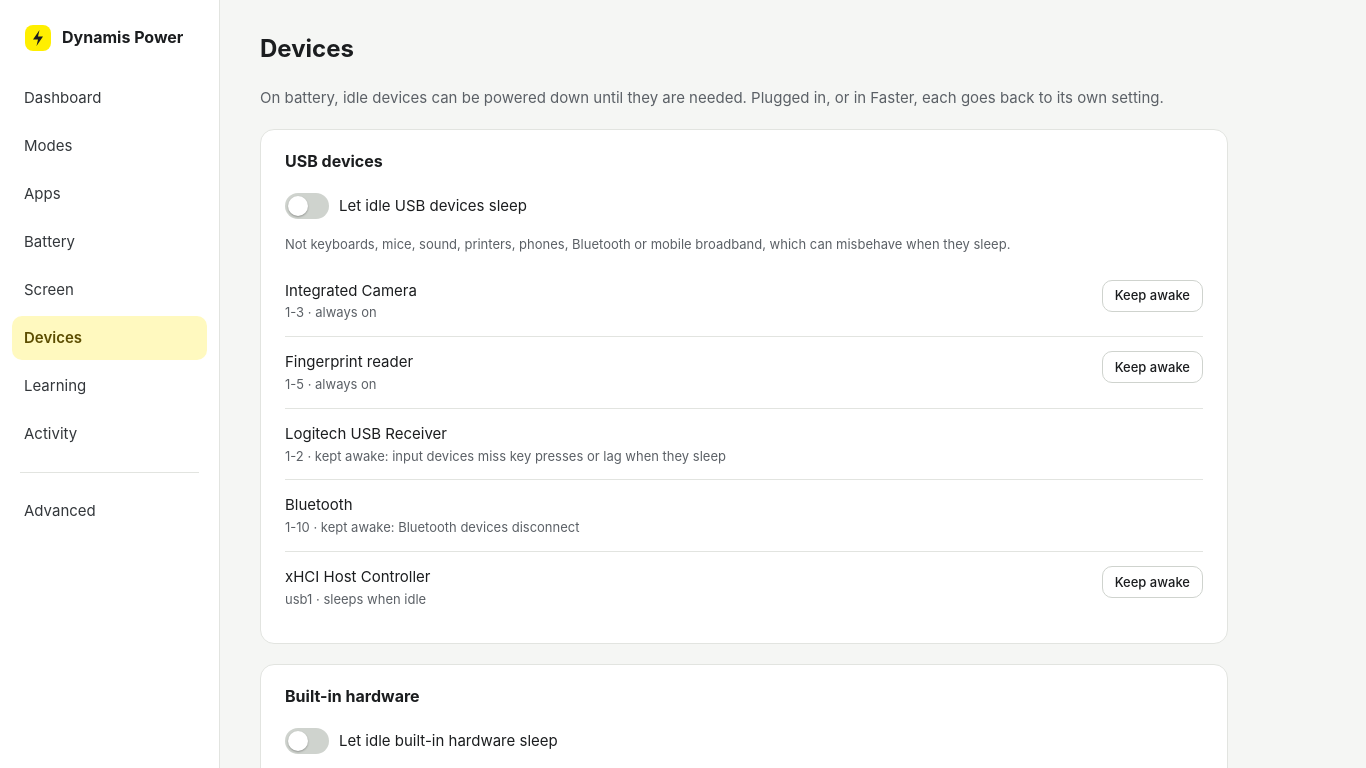
the app with the stand-in backend › lets idle devices sleep, never the sensitive ones
Click the switch labelled "Let idle USB devices sleep": click(307, 206) [285,189,1203,223]
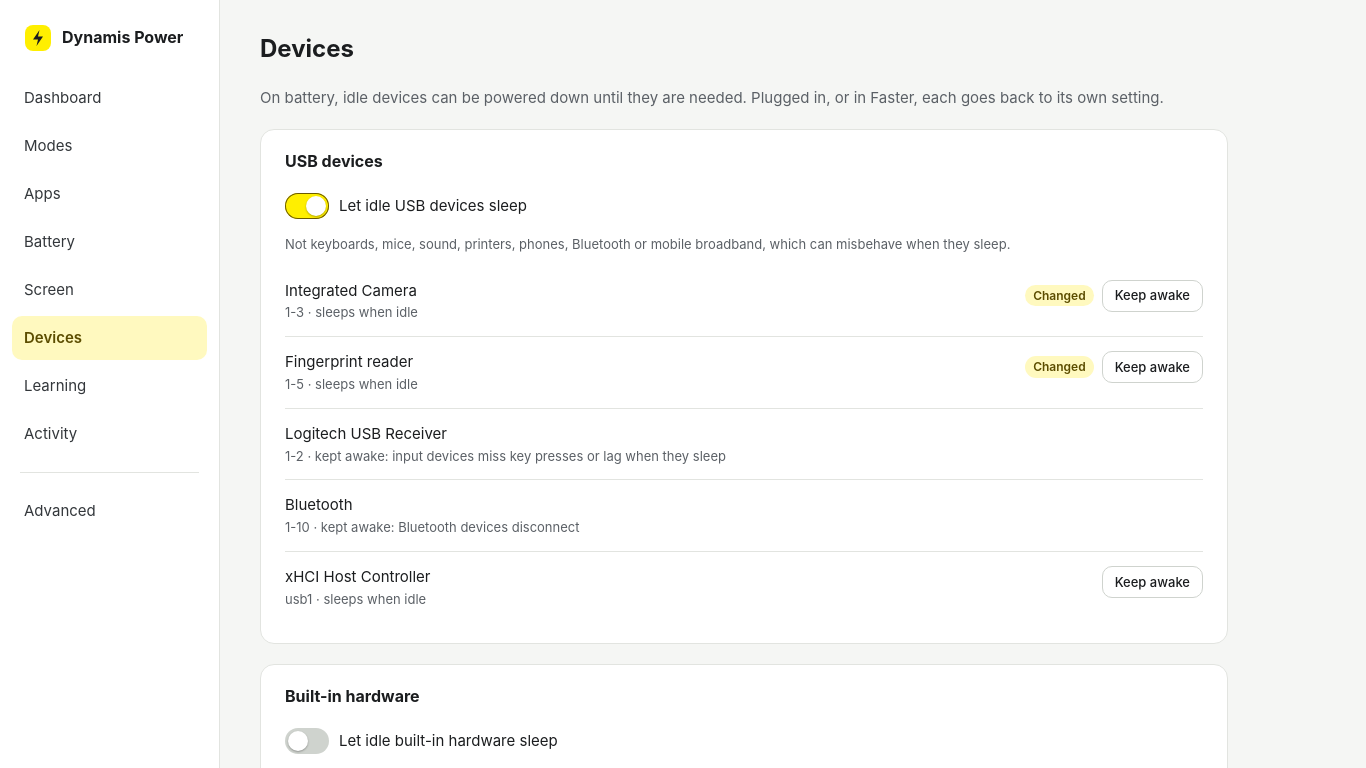
Expected: the text "1-2 · kept awake: input devices" is shown, [285,446,726,465]
Result: the text "Changed" is shown 2 times at [1025,285,1094,306]; [1025,356,1094,378]
Keep one device awake by hand.
Click the button with aria-label "Keep awake: Integrated Camera": click(1152, 296) [1102,280,1203,312]
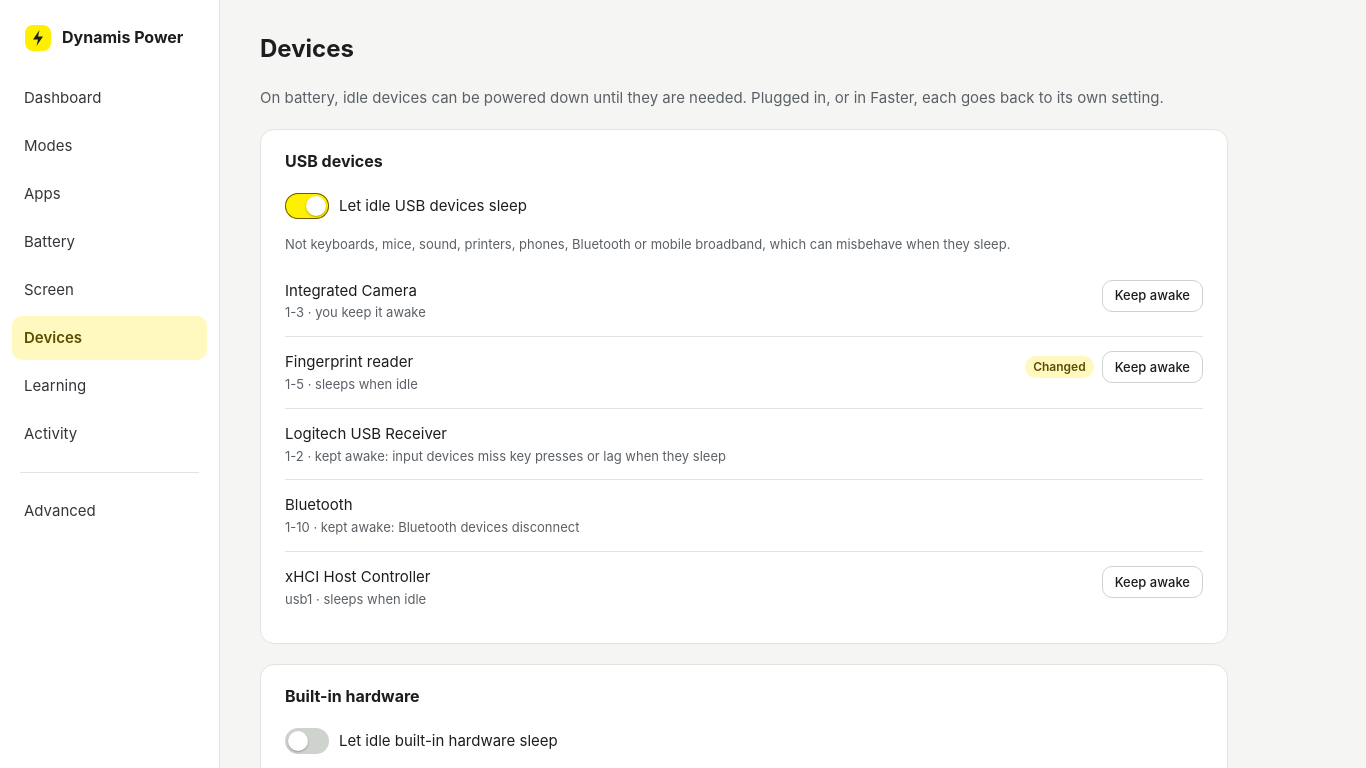
Result: the text "1-3 · you keep it awake" is shown at [285,303,426,322]
